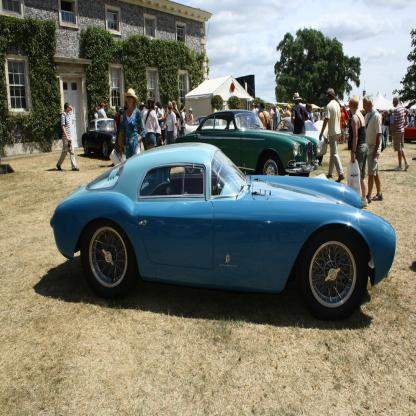Car: (50, 144, 396, 314), (175, 109, 322, 174), (82, 119, 142, 161), (275, 115, 328, 160), (184, 115, 222, 135)
